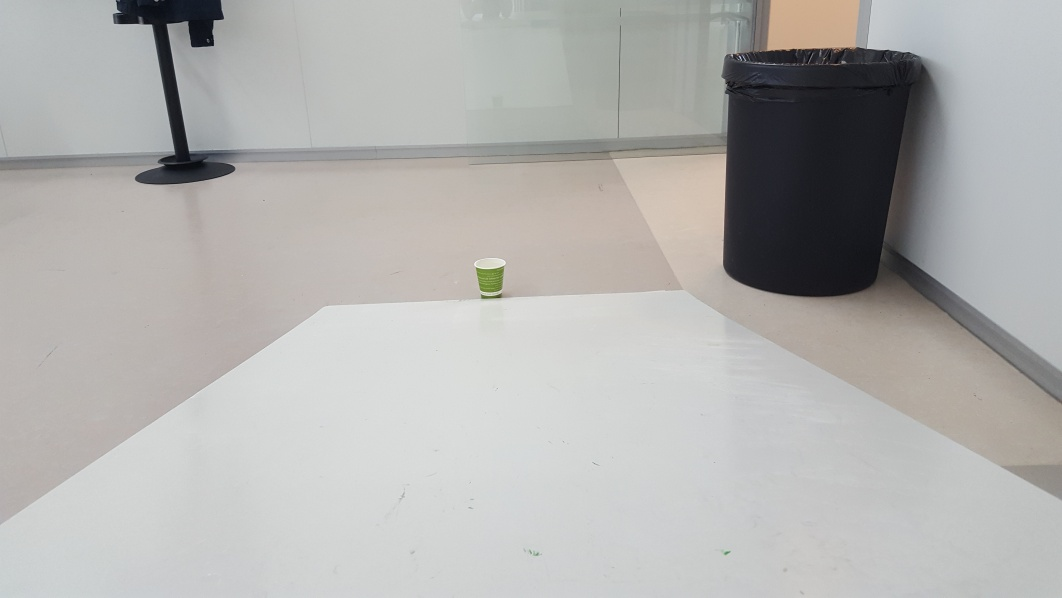cup: (472, 255, 509, 302)
